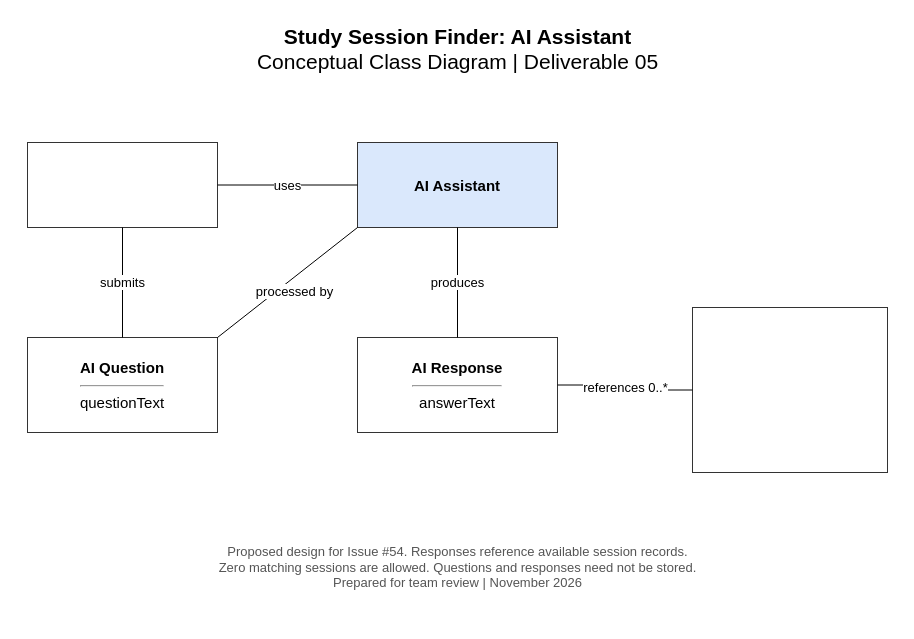
The diagram is 914 pixels wide and 639 high, and some of its shapes have lost their labels. The centre of each missing label's shape, as x and y in pixels:
"Student" belongs at point 122,185.
"Study Session sessionTitle courseName meetingTime location capacity" belongs at point 790,389.
